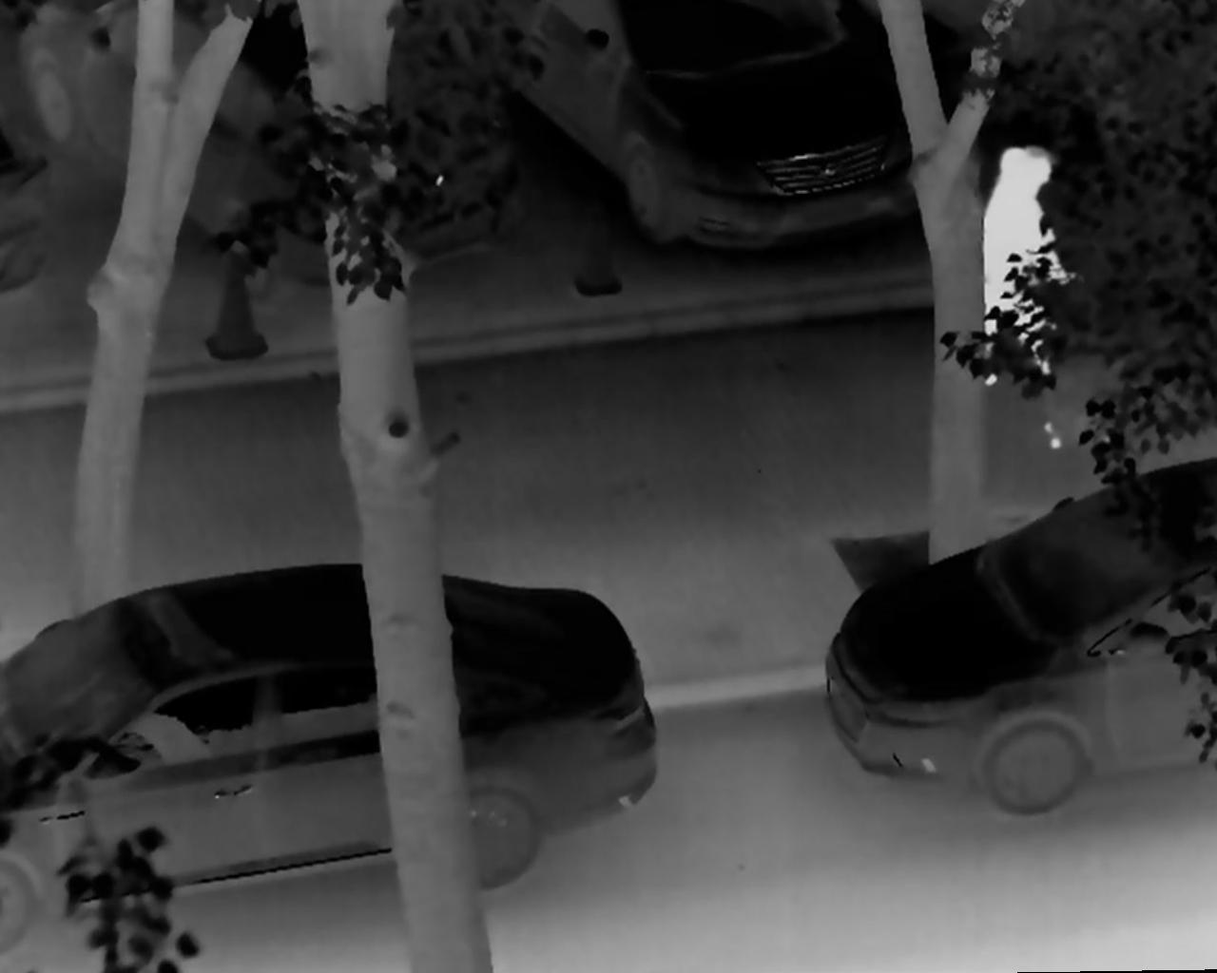person: (974, 146, 1116, 456), (967, 138, 1077, 395)
